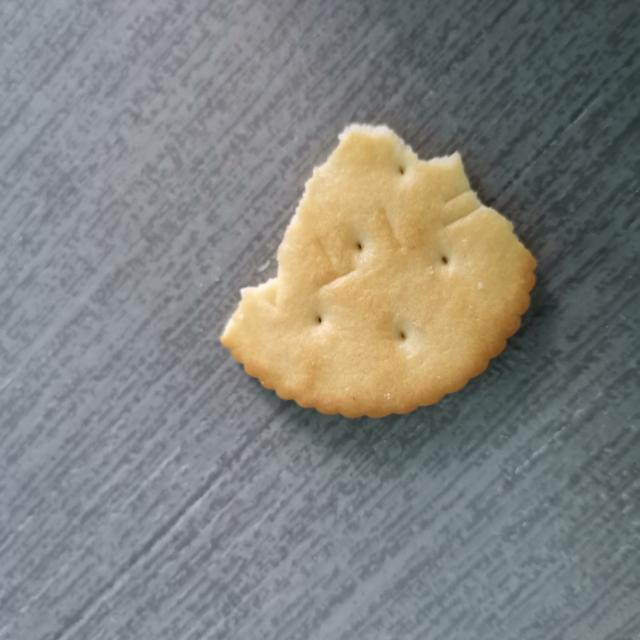Broken: (219, 121, 537, 420)
